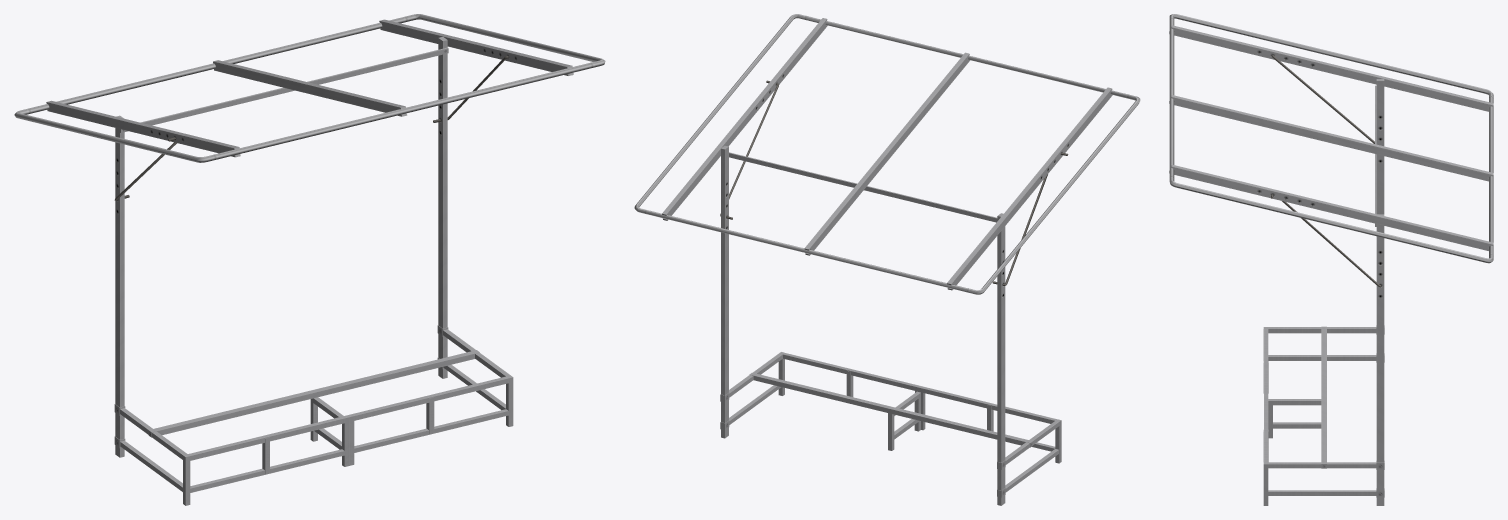
The model's file is jsf_2P_s02_Leg02.fbx.
3 renders of one model, left to right at view 1: azimuth 30°, elevation 25°; view 2: azimuth 150°, elevation 25°; view 3: azimuth 270°, elevation 25°, orthographic. The views are drawn at different scales.
Visible parts, largest first — view 1: jsf_2P_s02_Leg02; view 2: jsf_2P_s02_Leg02; view 3: jsf_2P_s02_Leg02.
Boxes of the visible parts, box(x1,y1,x2,y2) form: jsf_2P_s02_Leg02: box(14, 14, 605, 505); jsf_2P_s02_Leg02: box(634, 14, 1140, 505); jsf_2P_s02_Leg02: box(1169, 14, 1493, 505).
Size of the model in its own units: 262 by 244 by 210.
